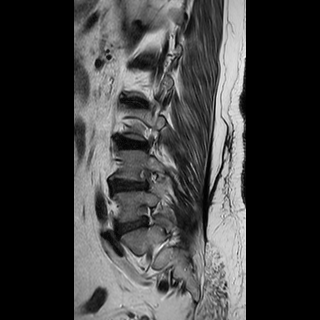LFS2: (128, 197, 162, 235)
